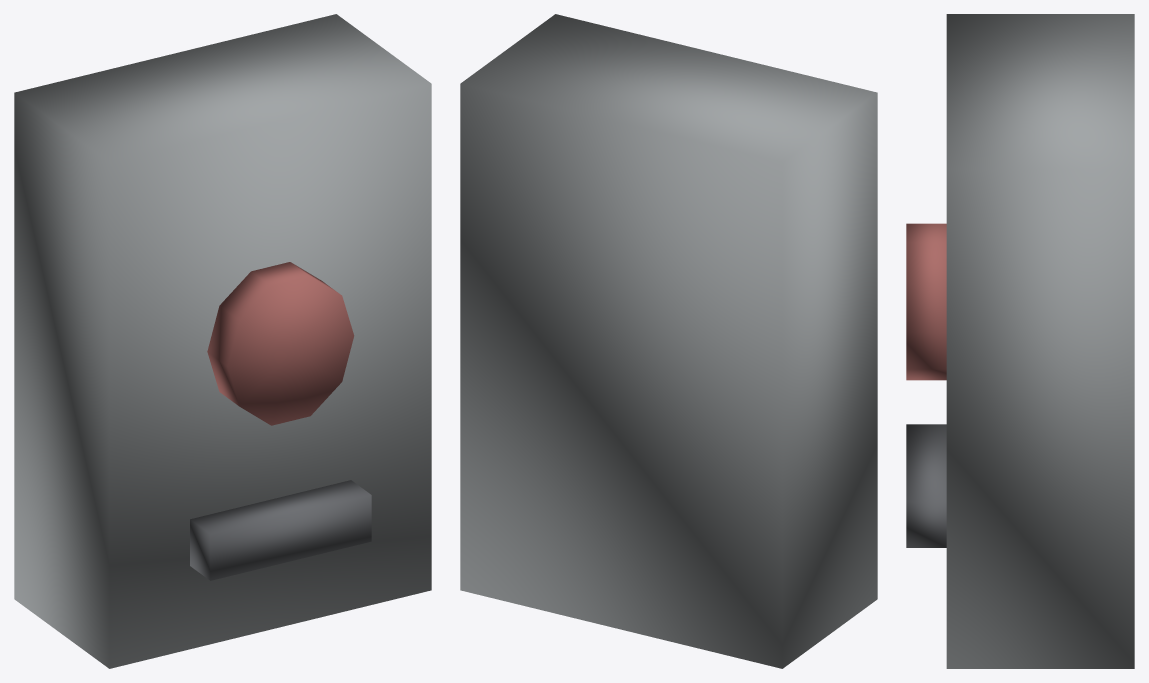
Rendered from queue_ticket_dispenser__compact.glb.
3 views of the same model, side by side, from view 1: azimuth 30°, elevation 25°; view 2: azimuth 150°, elevation 25°; view 3: azimuth 270°, elevation 25° (orthographic).
Visible parts, largest first — view 1: world; view 2: world; view 3: world.
Part boxes in pixels (left/top/right/bottom): world: left=14, top=14, right=431, bottom=668; world: left=460, top=14, right=877, bottom=668; world: left=906, top=14, right=1134, bottom=668.
Size of the model in its own units: 0.2352 by 0.3534 by 0.1462.
